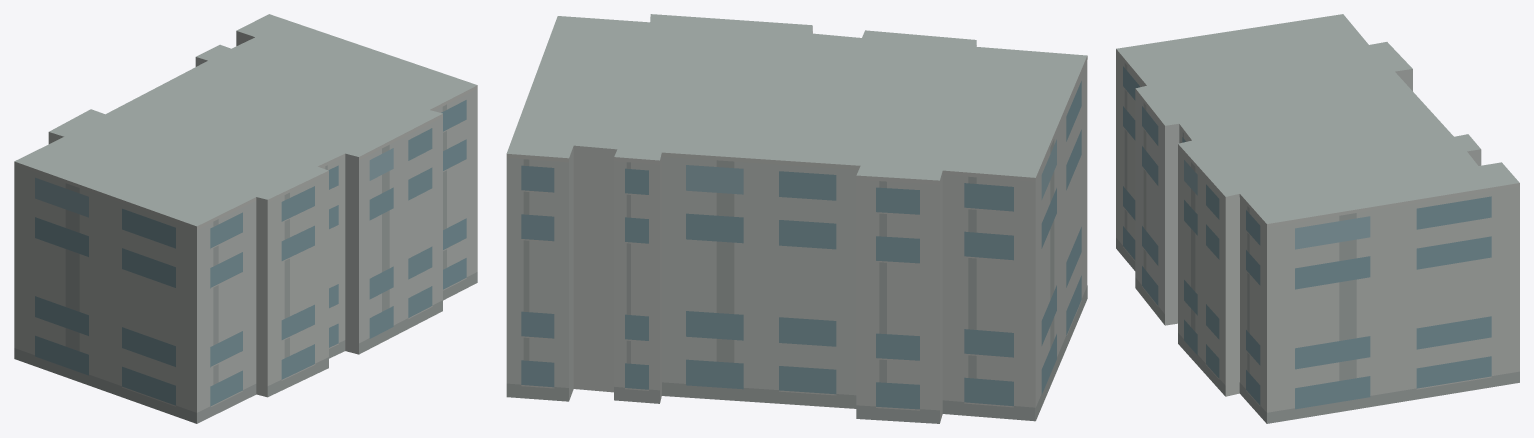
File: survey-upis-32863987.glb
3 renders of one model, left to right at view 1: azimuth 30°, elevation 25°; view 2: azimuth 150°, elevation 25°; view 3: azimuth 270°, elevation 25°, orthographic. The views are drawn at different scales.
Parts seen in each view (by area): view 1: survey-upis-32863987.tmp; view 2: survey-upis-32863987.tmp; view 3: survey-upis-32863987.tmp.
Boxes of the visible parts, x1,y1,x2,y2 form: survey-upis-32863987.tmp: (14,14,477,423); survey-upis-32863987.tmp: (506,14,1087,423); survey-upis-32863987.tmp: (1116,14,1519,423).
Size of the model in its own units: 32.04 by 14.2 by 26.02.
